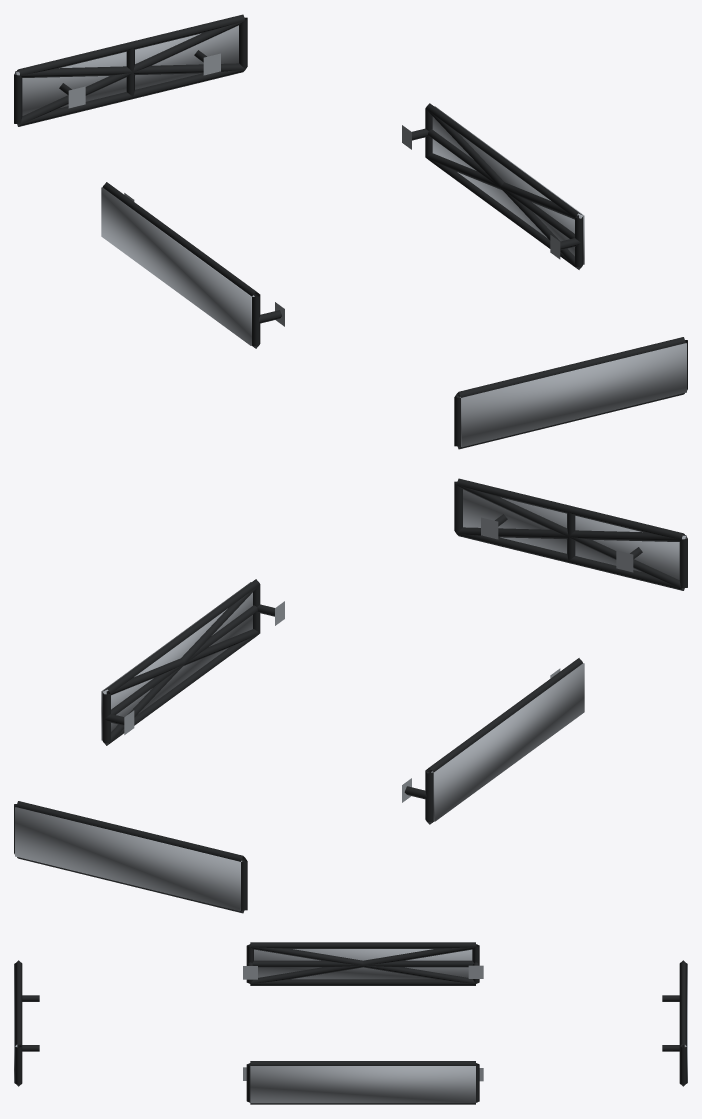
The model's file is kanaya_solano_protecao.glb.
3 views of the same model, one above another, from view 1: azimuth 30°, elevation 25°; view 2: azimuth 150°, elevation 25°; view 3: azimuth 270°, elevation 25° (orthographic). The views are drawn at different scales.
Parts seen in each view (by area): view 1: Protection_front_Level3_Details, Protection_left_Level3_Details, Protection_rear_Level1_Details, Protection_rear_Level3_Details, Protection_right_Level1_Details, Protection_rear_Level2_Details, Protection_right_Level2_Details, Protection_right_Level3_Details, Protection_front_Level1_Details, Protection_left_Level1_Details; view 2: Protection_rear_Level3_Details, Protection_left_Level3_Details, Protection_front_Level1_Details, Protection_front_Level3_Details, Protection_right_Level1_Details, Protection_front_Level2_Details, Protection_right_Level2_Details, Protection_right_Level3_Details, Protection_rear_Level1_Details, Protection_left_Level1_Details; view 3: Protection_right_Level3_Details, Protection_left_Level2_Details, Protection_left_Level1_Details, Protection_left_Level3_Details, Protection_right_Level1_Details, Protection_rear_Level1_Details, Protection_front_Level1_Details.
Boxes of the visible parts, x1,y1,x2,y2 form: Protection_front_Level3_Details: [459, 343, 686, 447]; Protection_left_Level3_Details: [101, 187, 254, 345]; Protection_rear_Level1_Details: [14, 14, 247, 126]; Protection_rear_Level3_Details: [15, 25, 238, 115]; Protection_right_Level1_Details: [402, 103, 583, 269]; Protection_rear_Level2_Details: [16, 21, 245, 125]; Protection_right_Level2_Details: [425, 109, 582, 269]; Protection_right_Level3_Details: [432, 106, 584, 264]; Protection_front_Level1_Details: [454, 337, 687, 449]; Protection_left_Level1_Details: [102, 182, 284, 348]; Protection_rear_Level3_Details: [15, 807, 242, 911]; Protection_left_Level3_Details: [431, 663, 584, 821]; Protection_front_Level1_Details: [454, 478, 687, 590]; Protection_front_Level3_Details: [463, 489, 686, 579]; Protection_right_Level1_Details: [102, 579, 284, 745]; Protection_front_Level2_Details: [456, 485, 685, 589]; Protection_right_Level2_Details: [104, 585, 259, 745]; Protection_right_Level3_Details: [101, 582, 252, 740]; Protection_rear_Level1_Details: [14, 801, 247, 913]; Protection_left_Level1_Details: [402, 658, 582, 824]; Protection_right_Level3_Details: [250, 1066, 475, 1103]; Protection_left_Level2_Details: [250, 945, 476, 983]; Protection_left_Level1_Details: [243, 942, 483, 985]; Protection_left_Level3_Details: [254, 949, 472, 979]; Protection_right_Level1_Details: [243, 1061, 483, 1104]; Protection_rear_Level1_Details: [662, 960, 686, 1086]; Protection_front_Level1_Details: [15, 960, 39, 1086].
Size of the model in its own units: 2.14 by 0.354 by 4.96.
Materials: 1 (1 with a texture image).
